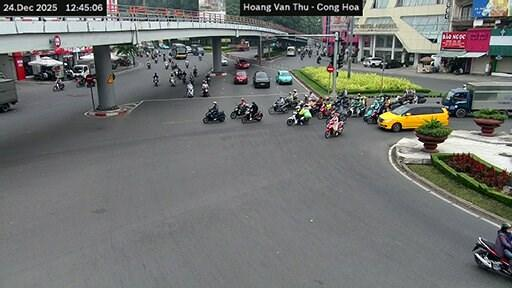motorbike: (472, 237, 511, 274), (365, 104, 383, 122), (285, 111, 307, 125), (240, 109, 262, 122), (268, 99, 290, 112), (323, 121, 342, 136), (204, 109, 224, 122), (316, 103, 332, 118), (74, 76, 95, 86), (230, 104, 246, 117), (326, 112, 335, 124), (76, 76, 85, 86), (338, 109, 345, 121), (185, 85, 192, 97), (53, 82, 63, 90), (201, 86, 208, 95), (169, 76, 175, 85), (188, 75, 194, 84), (204, 72, 208, 84), (192, 67, 197, 76), (153, 76, 157, 85), (181, 73, 185, 82), (316, 55, 320, 63), (185, 59, 188, 67), (163, 63, 167, 68), (153, 57, 156, 63), (198, 54, 201, 59), (147, 62, 150, 67)
